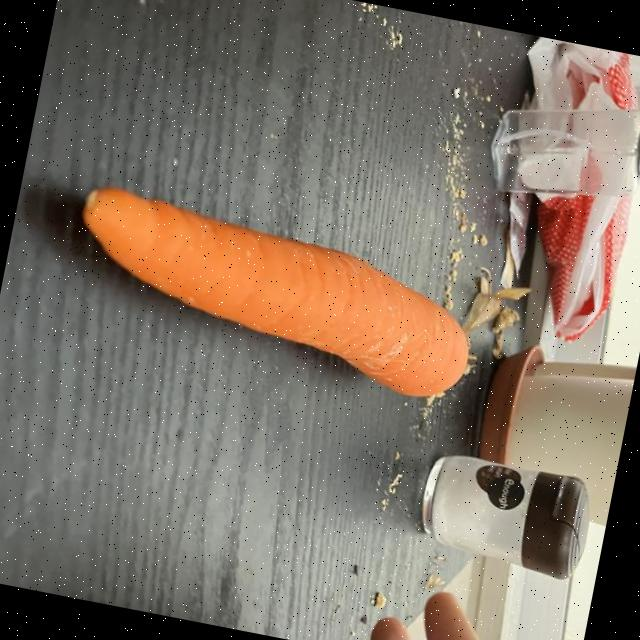carrot: (82, 188, 467, 396)
